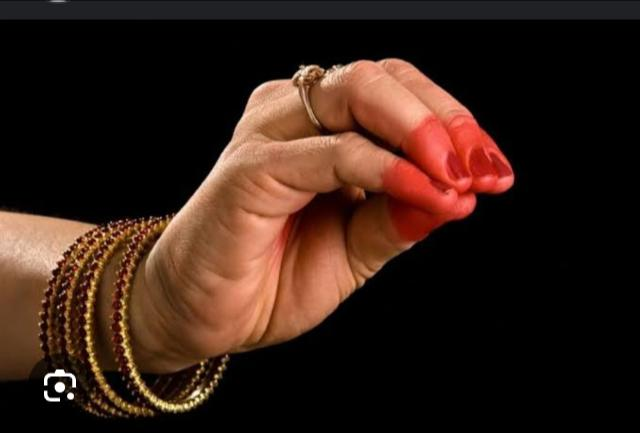mukul: (0, 58, 517, 429)
